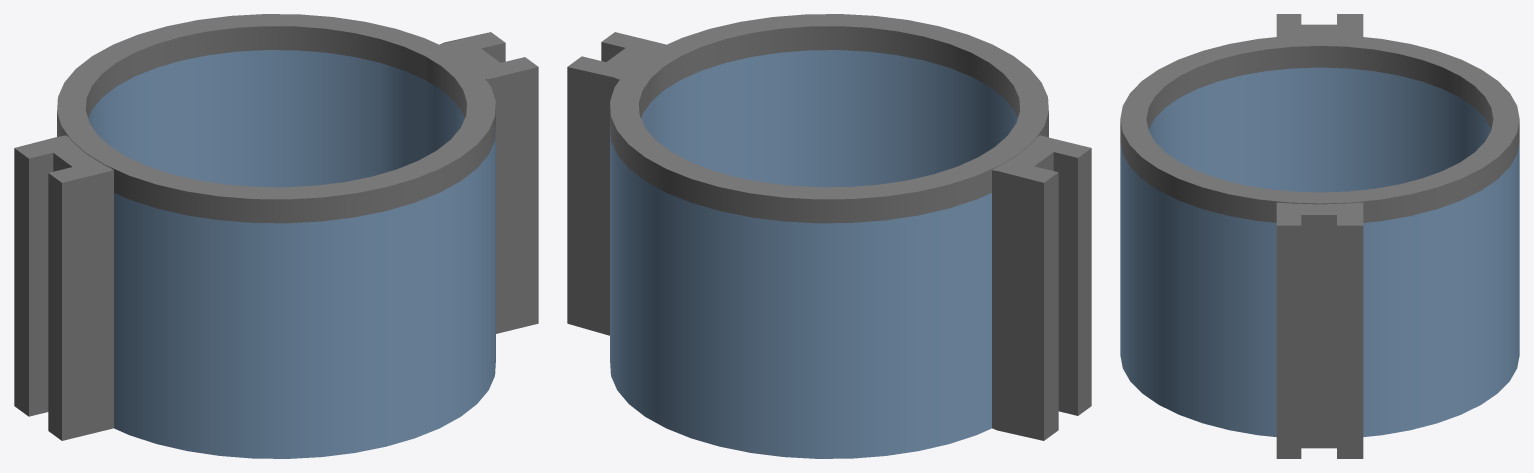
The model's file is SM_ElevRing.FBX.
3 renders of one model, left to right at view 1: azimuth 30°, elevation 25°; view 2: azimuth 150°, elevation 25°; view 3: azimuth 270°, elevation 25°, orthographic. The views are drawn at different scales.
Parts seen in each view (by area): view 1: SM_ElevRing; view 2: SM_ElevRing; view 3: SM_ElevRing.
Part boxes in pixels (bbox=[...]): SM_ElevRing: bbox=[14, 14, 538, 458]; SM_ElevRing: bbox=[567, 14, 1091, 458]; SM_ElevRing: bbox=[1120, 14, 1519, 458].
Bounding box in the file's own units: 577 × 300 × 460.
